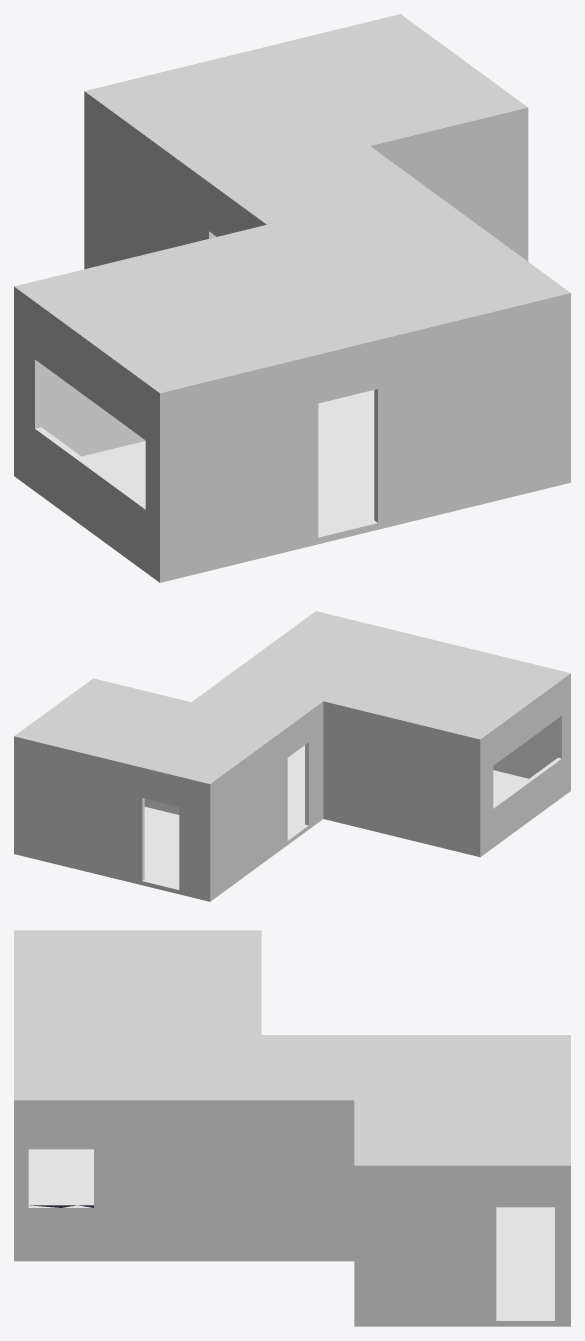
File: living_room_shell.glb
3 views of the same model, one above another, from view 1: azimuth 30°, elevation 25°; view 2: azimuth 150°, elevation 25°; view 3: azimuth 270°, elevation 25° (orthographic). The views are drawn at different scales.
Parts seen in each view (by area): view 1: living-room_0/0.exterior, living-room_0/0.floor, living-room_0/0.wall; view 2: living-room_0/0.exterior, living-room_0/0.floor, living-room_0/0.wall; view 3: living-room_0/0.exterior, living-room_0/0.floor.
Boxes of the visible parts, x1=… form: living-room_0/0.exterior: x1=14, y1=14, x2=570, y2=582; living-room_0/0.floor: x1=82, y1=390, x2=377, y2=537; living-room_0/0.wall: x1=35, y1=231, x2=377, y2=522; living-room_0/0.exterior: x1=14, y1=611, x2=570, y2=901; living-room_0/0.floor: x1=143, y1=745, x2=528, y2=889; living-room_0/0.wall: x1=142, y1=716, x2=561, y2=880; living-room_0/0.exterior: x1=14, y1=930, x2=570, y2=1326; living-room_0/0.floor: x1=28, y1=1149, x2=554, y2=1320.
Size of the model in its own units: 9 by 2.87 by 9.
4 materials, 1 textured.
